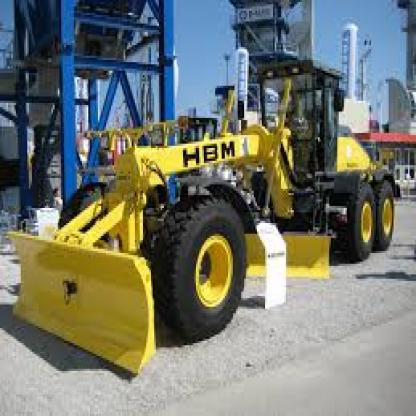bull_dozer/loader/grader: (29, 45, 406, 356)
